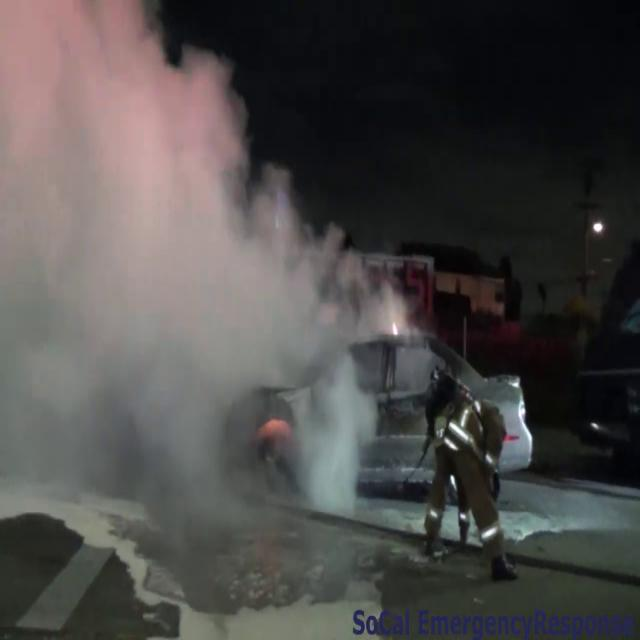Smoke: (0, 1, 402, 511)
